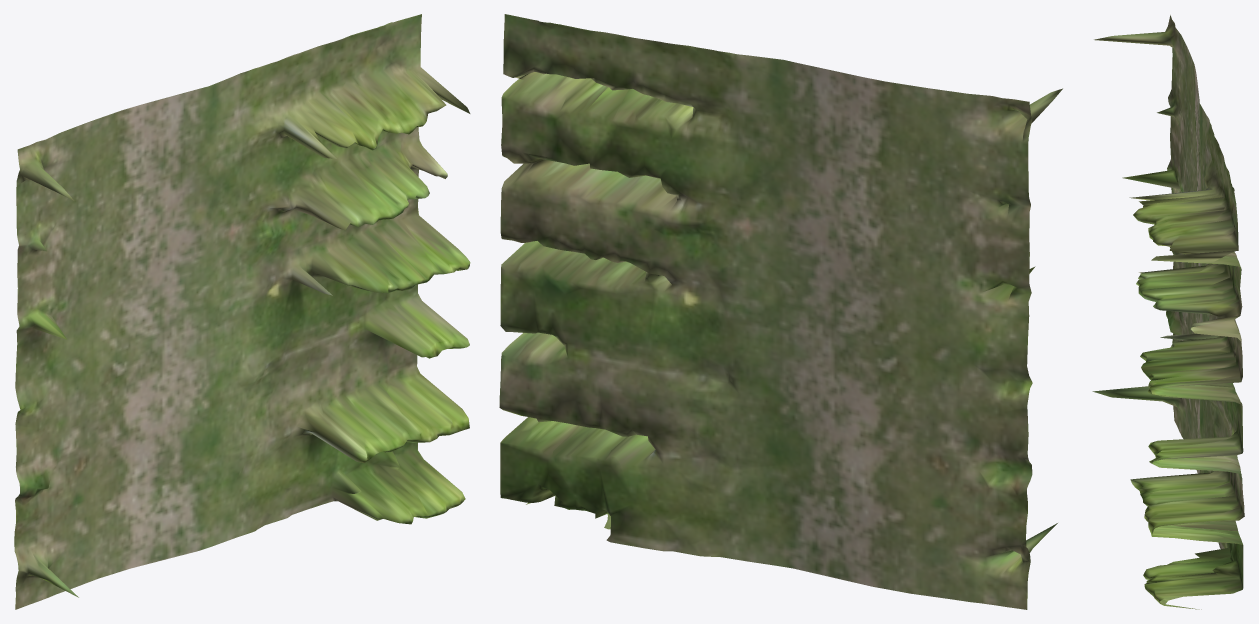
The model's file is map_60_10.obj.
The picture shows the model from 3 angles, left to right: view 1: azimuth 30°, elevation 25°; view 2: azimuth 150°, elevation 25°; view 3: azimuth 270°, elevation 25°; orthographic projection. The views are drawn at different scales.
Size of the model in its own units: 10 by 10 by 3.41.
Materials: 1 (1 with a texture image).
